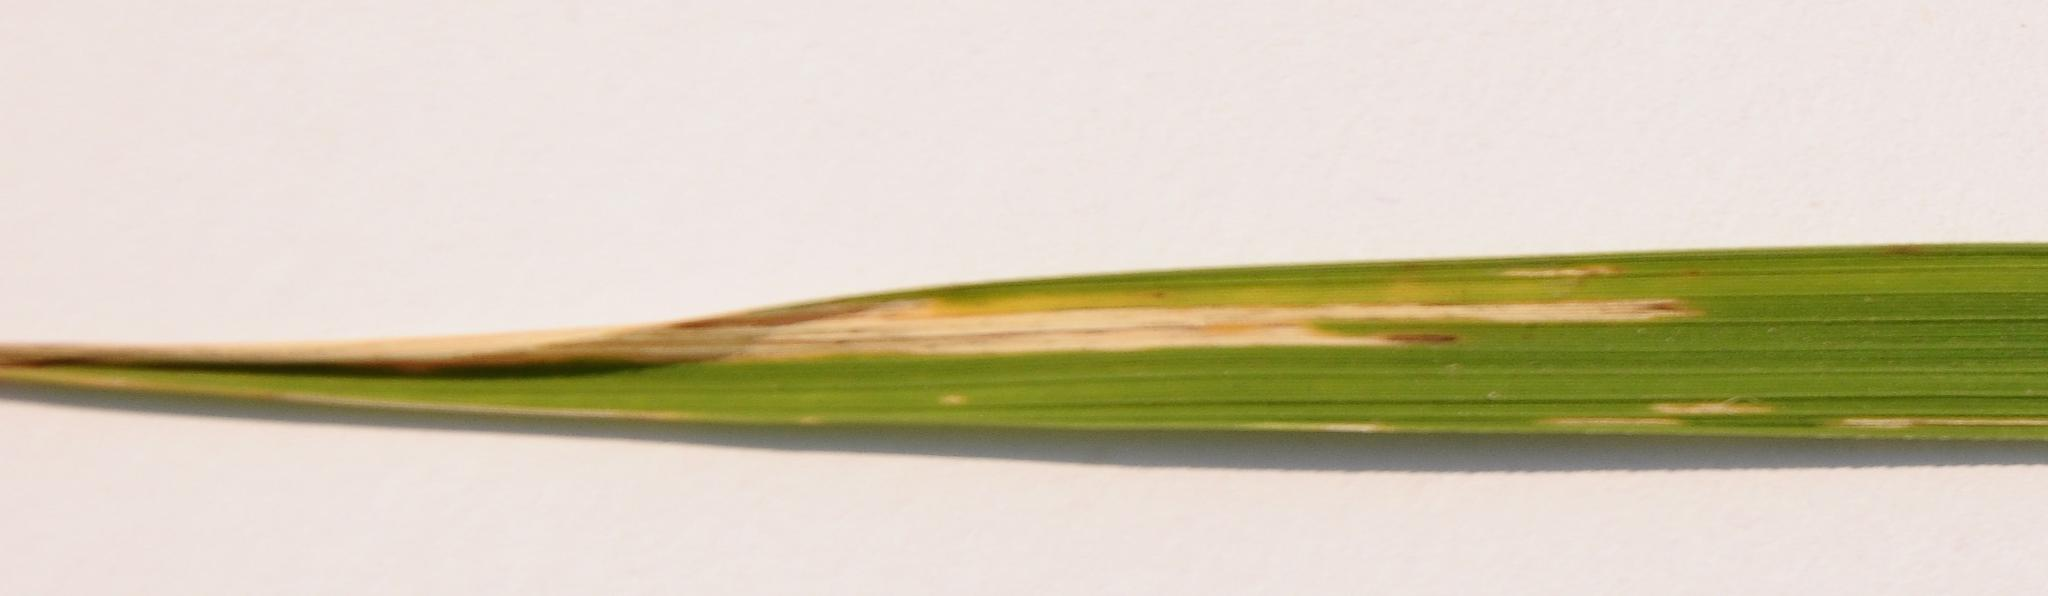2 BacterialBlight: (253, 243, 1716, 384)
